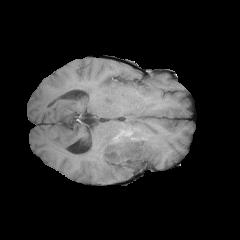glioma: (90, 124, 167, 183)
